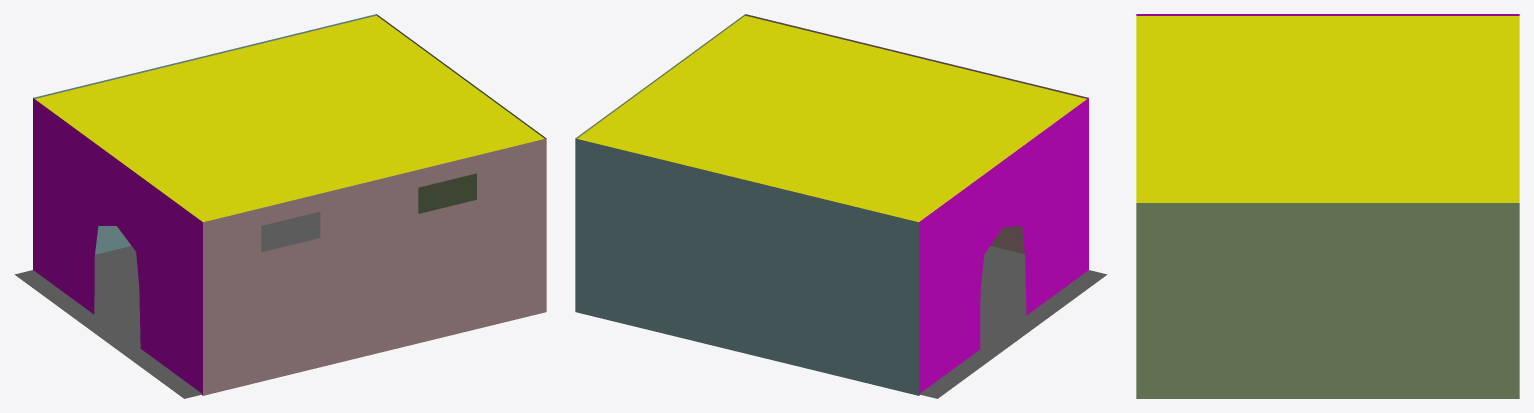
Rendered from SideRoomBase_NoDoors.fbx.
3 views of the same model, side by side, from view 1: azimuth 30°, elevation 25°; view 2: azimuth 150°, elevation 25°; view 3: azimuth 270°, elevation 25° (orthographic). The views are drawn at different scales.
Parts seen in each view (by area): view 1: polySurface7, polySurface2, polySurface10, polySurface9, polySurface6, polySurface4; view 2: polySurface4, polySurface2, polySurface10, polySurface9, polySurface7; view 3: polySurface6, polySurface2, polySurface10.
Part boxes in pixels (left/top/right/bottom): polySurface7: left=203, top=138, right=546, bottom=395; polySurface2: left=35, top=15, right=544, bottom=222; polySurface10: left=33, top=98, right=202, bottom=395; polySurface9: left=14, top=211, right=320, bottom=398; polySurface6: left=376, top=14, right=546, bottom=213; polySurface4: left=33, top=14, right=376, bottom=254; polySurface4: left=575, top=138, right=918, bottom=395; polySurface2: left=577, top=15, right=1086, bottom=222; polySurface10: left=919, top=98, right=1088, bottom=395; polySurface9: left=919, top=246, right=1107, bottom=398; polySurface7: left=745, top=14, right=1088, bottom=254; polySurface6: left=1136, top=203, right=1519, bottom=398; polySurface2: left=1136, top=16, right=1519, bottom=202; polySurface10: left=1136, top=14, right=1519, bottom=15.
Size of the model in its own units: 369 by 169 by 300.
